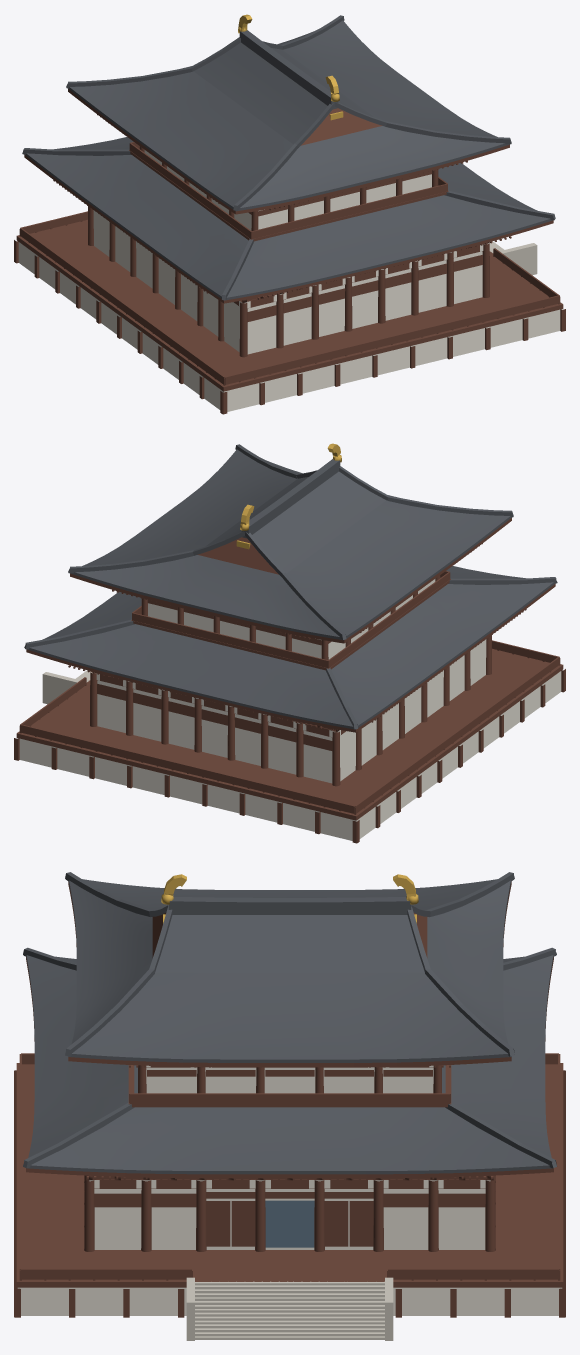
Rendered from tokyo-zojoji.detail.glb.
3 views of the same model, one above another, from view 1: azimuth 30°, elevation 25°; view 2: azimuth 150°, elevation 25°; view 3: azimuth 270°, elevation 25° (orthographic). The views are drawn at different scales.
Parts seen in each view (by area): view 1: Zōjō-ji Daiden; view 2: Zōjō-ji Daiden; view 3: Zōjō-ji Daiden.
Boxes of the visible parts, x1=… form: Zōjō-ji Daiden: x1=14, y1=14, x2=565, y2=414; Zōjō-ji Daiden: x1=14, y1=443, x2=565, y2=843; Zōjō-ji Daiden: x1=14, y1=872, x2=565, y2=1340.
Size of the model in its own units: 54.85 by 34.55 by 52.3.
